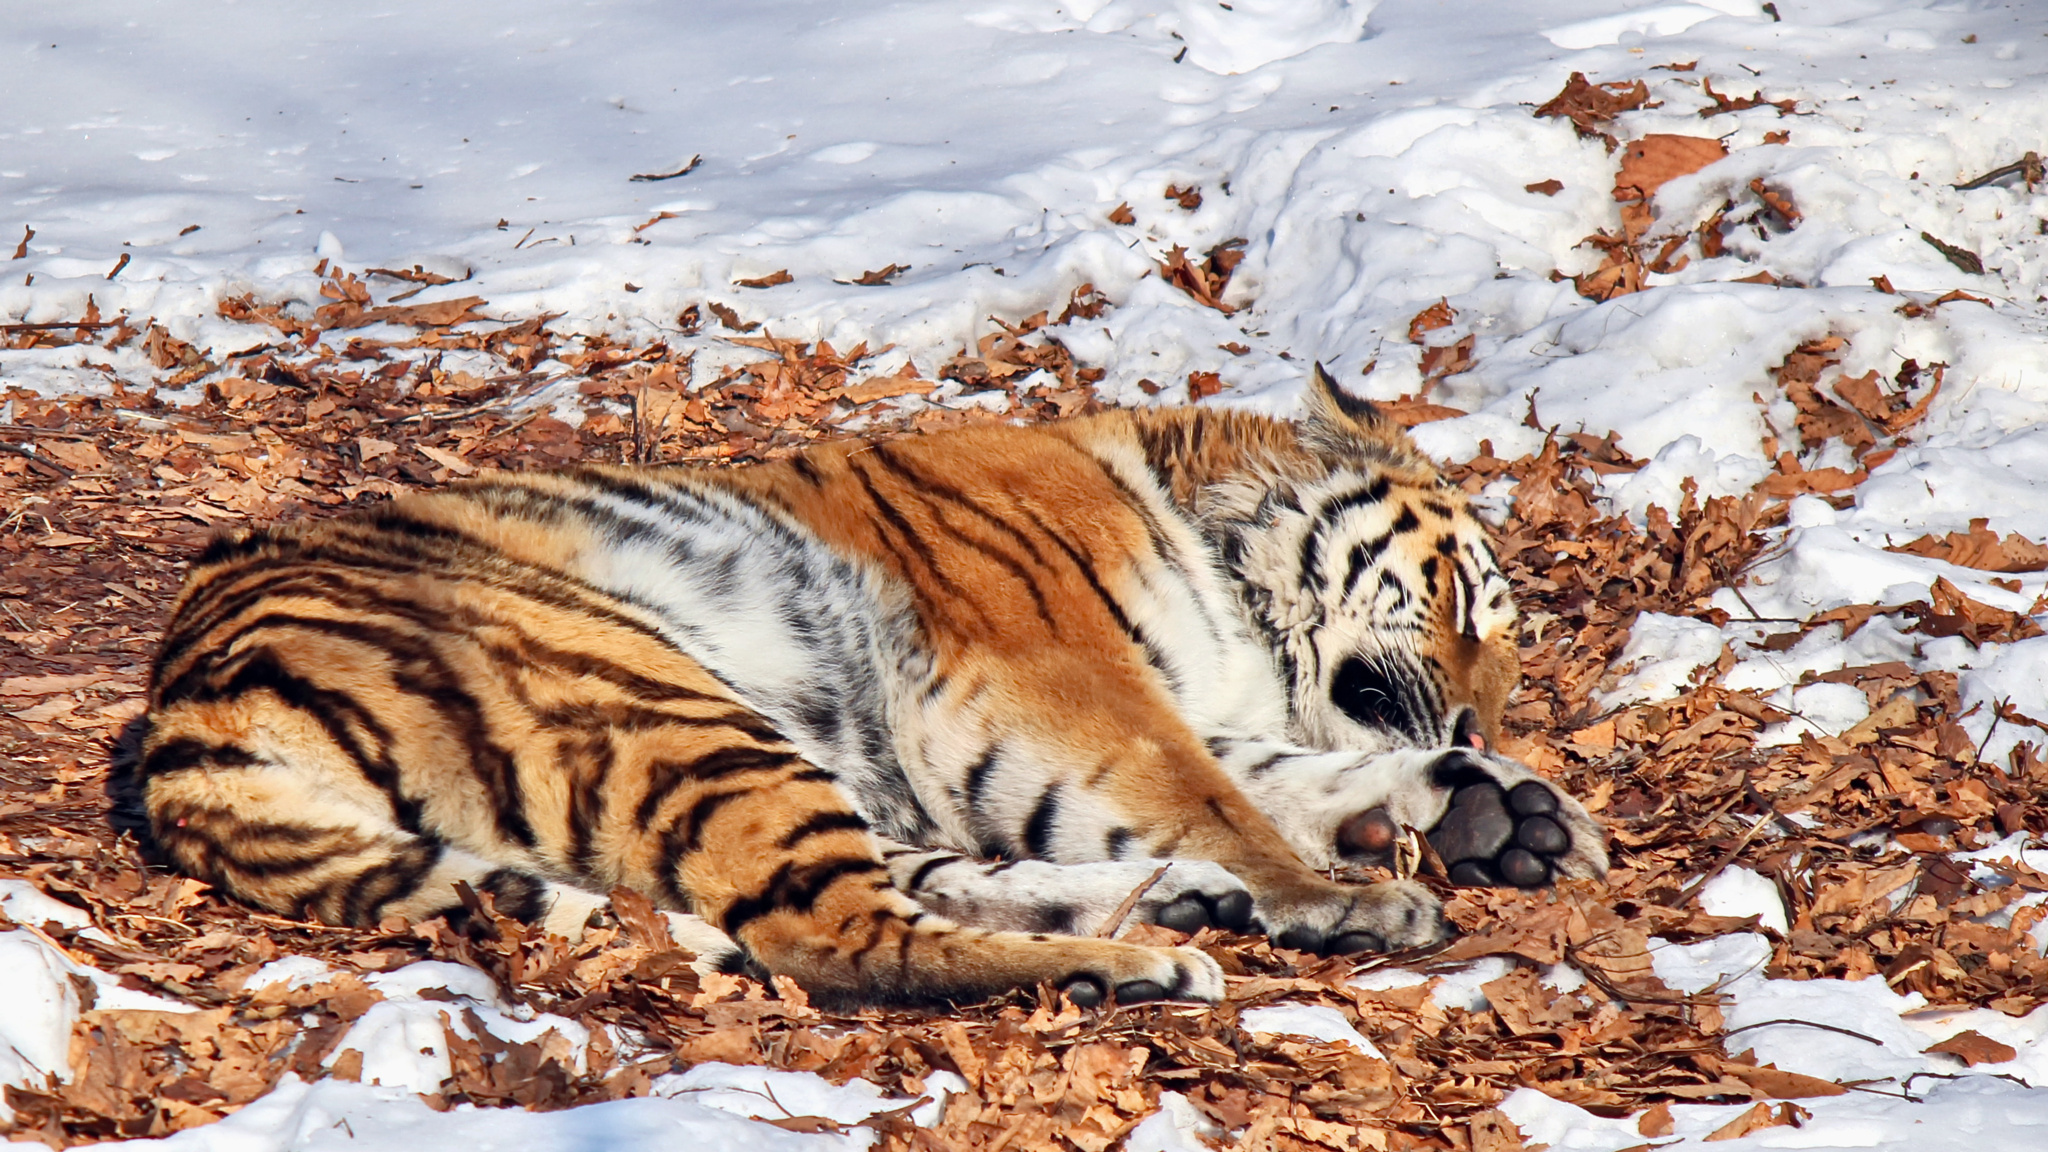tiger: (73, 376, 1566, 993)
